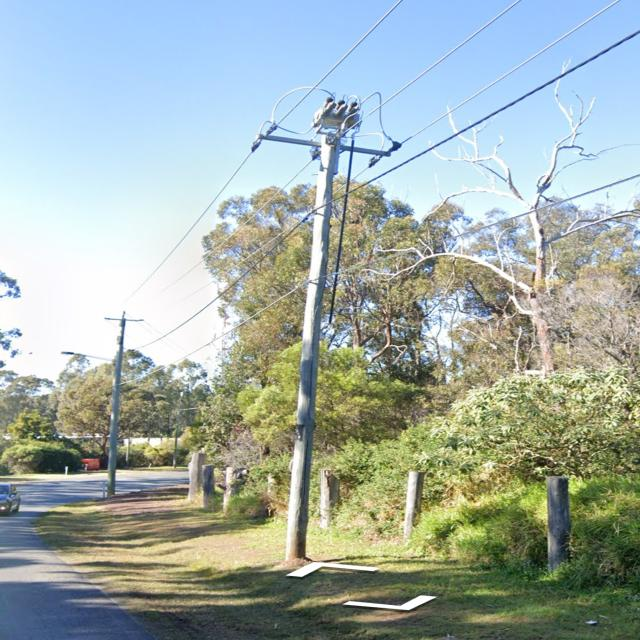HV-switch: (310, 95, 364, 134)
HV-transmission: (250, 122, 403, 168), (104, 311, 144, 322)
crossarm: (256, 132, 391, 158), (104, 318, 138, 322)
streetlight: (61, 351, 118, 364)
timber-pole: (284, 132, 342, 560), (106, 319, 126, 499)
